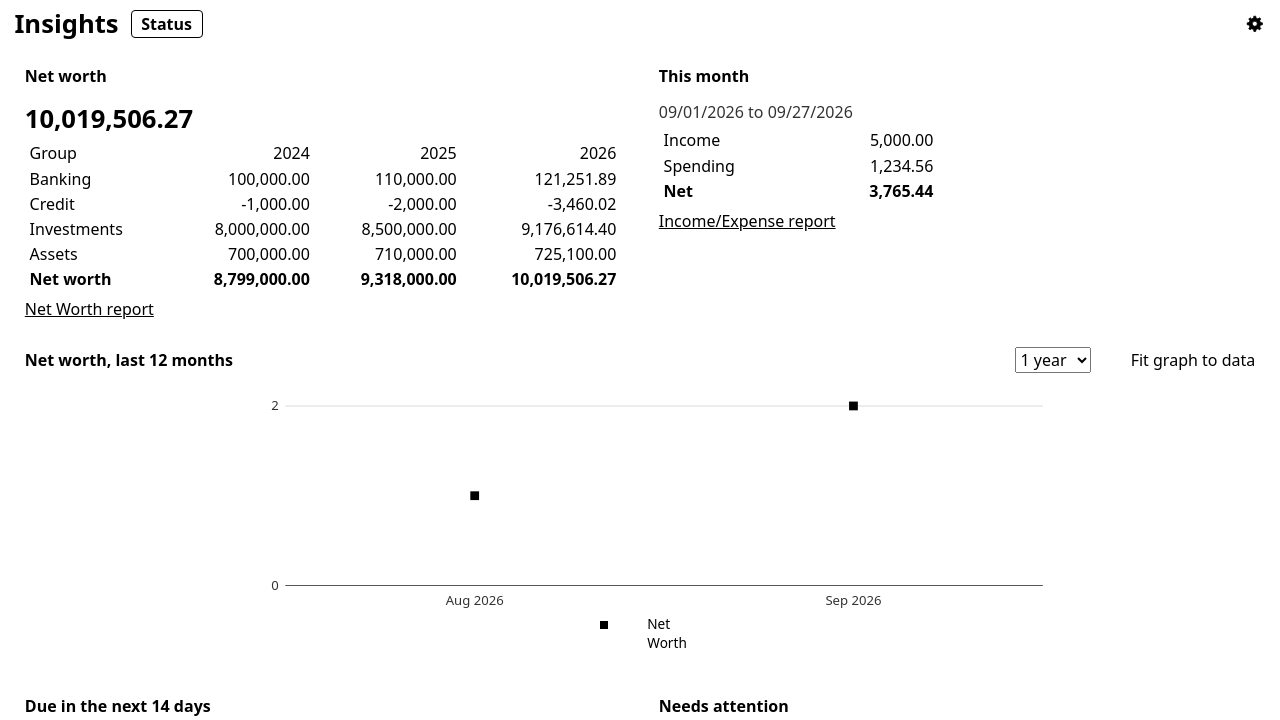
Insights: tabs and the gear (INS-010 … INS-030) › a refused save stays open with the reason
Click the button named "Insight options" at (1254, 24), box [1243,13,1266,35]
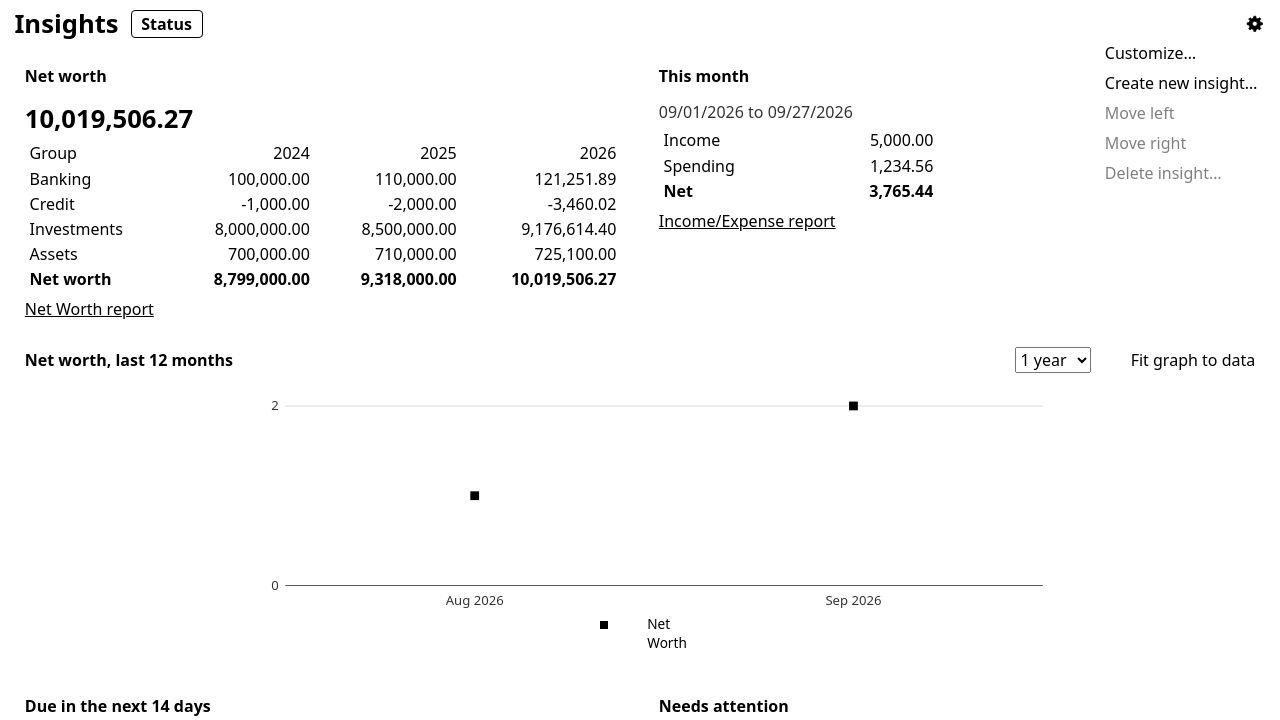
Click the menu item "Create new insight…" at (1185, 83), box [1097,68,1273,98]
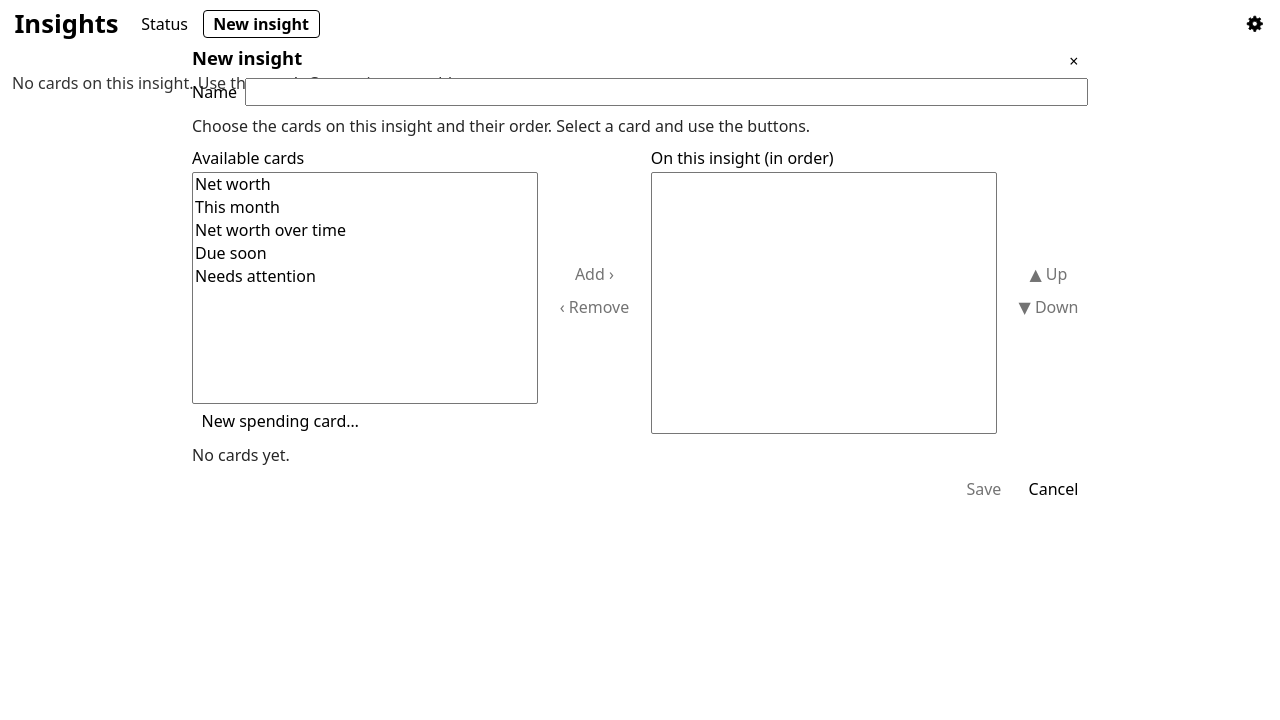
Type "Status" into the field labelled "Name" at (667, 92), box [245,78,1088,106]
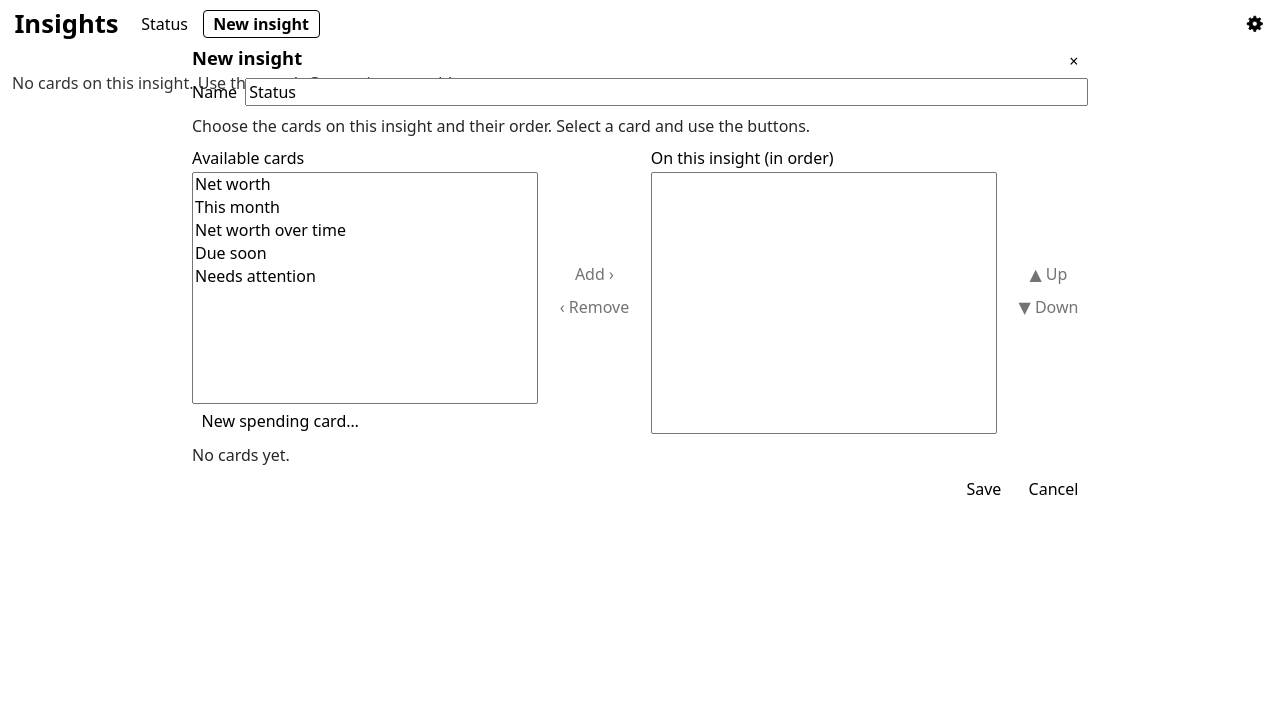
Click the button "Save" at (984, 489), box [957,475,1011,502]
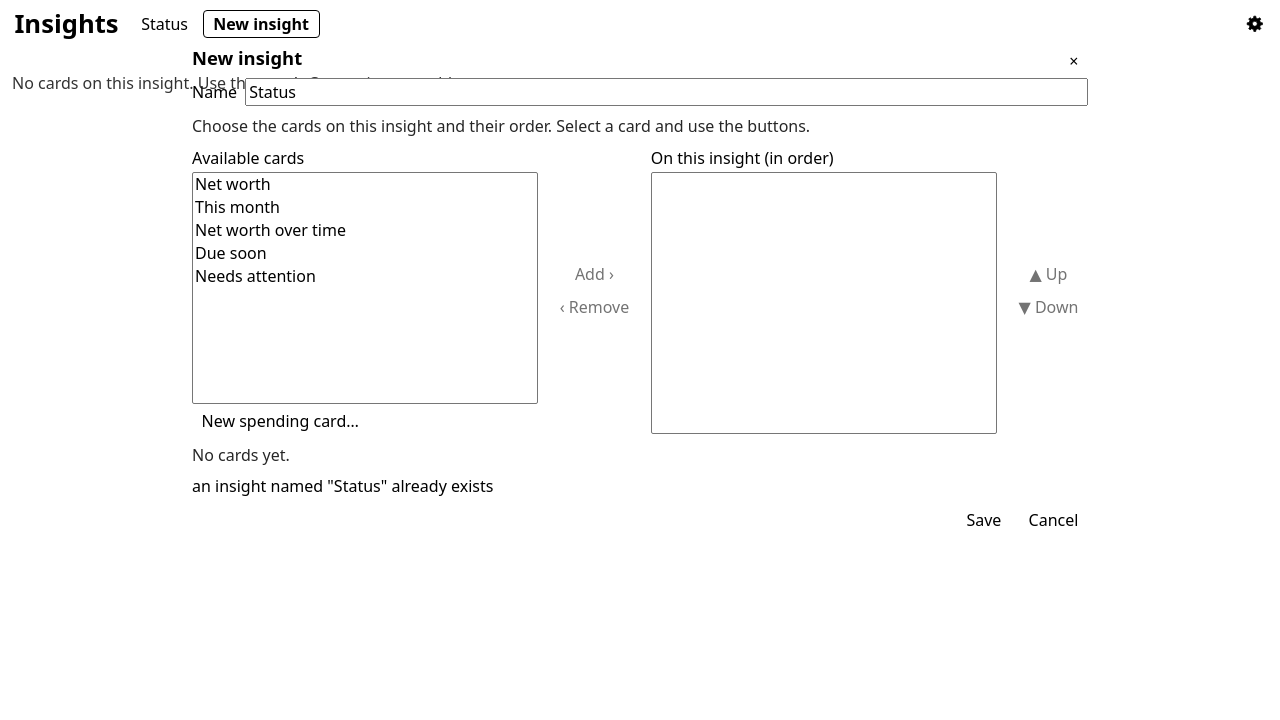
Expected: the dialog "New insight" is shown, [176,29,1104,550]
Expected: the message shows "already exists", [192,475,493,497]
